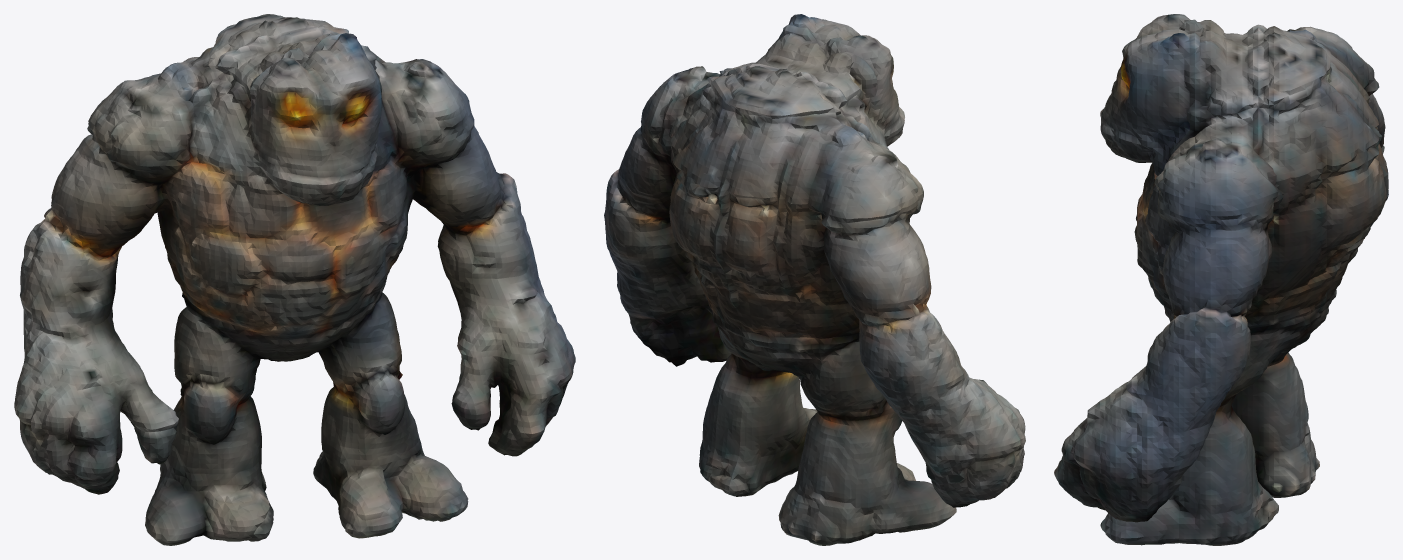
File: golem_lava.glb
3 renders of one model, left to right at view 1: azimuth 30°, elevation 25°; view 2: azimuth 150°, elevation 25°; view 3: azimuth 270°, elevation 25°, orthographic. The views are drawn at different scales.
Visible parts, largest first — view 1: geometry_0; view 2: geometry_0; view 3: geometry_0.
Boxes of the visible parts, x1,y1,x2,y2 form: geometry_0: (14, 14, 575, 545); geometry_0: (604, 14, 1025, 545); geometry_0: (1054, 14, 1388, 545).
Bounding box in the file's own units: 0.944 × 0.9194 × 0.5777.
